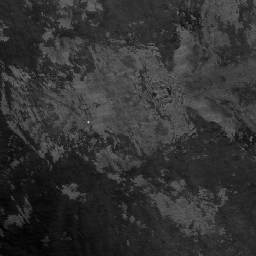Target: (86, 119, 91, 124)
